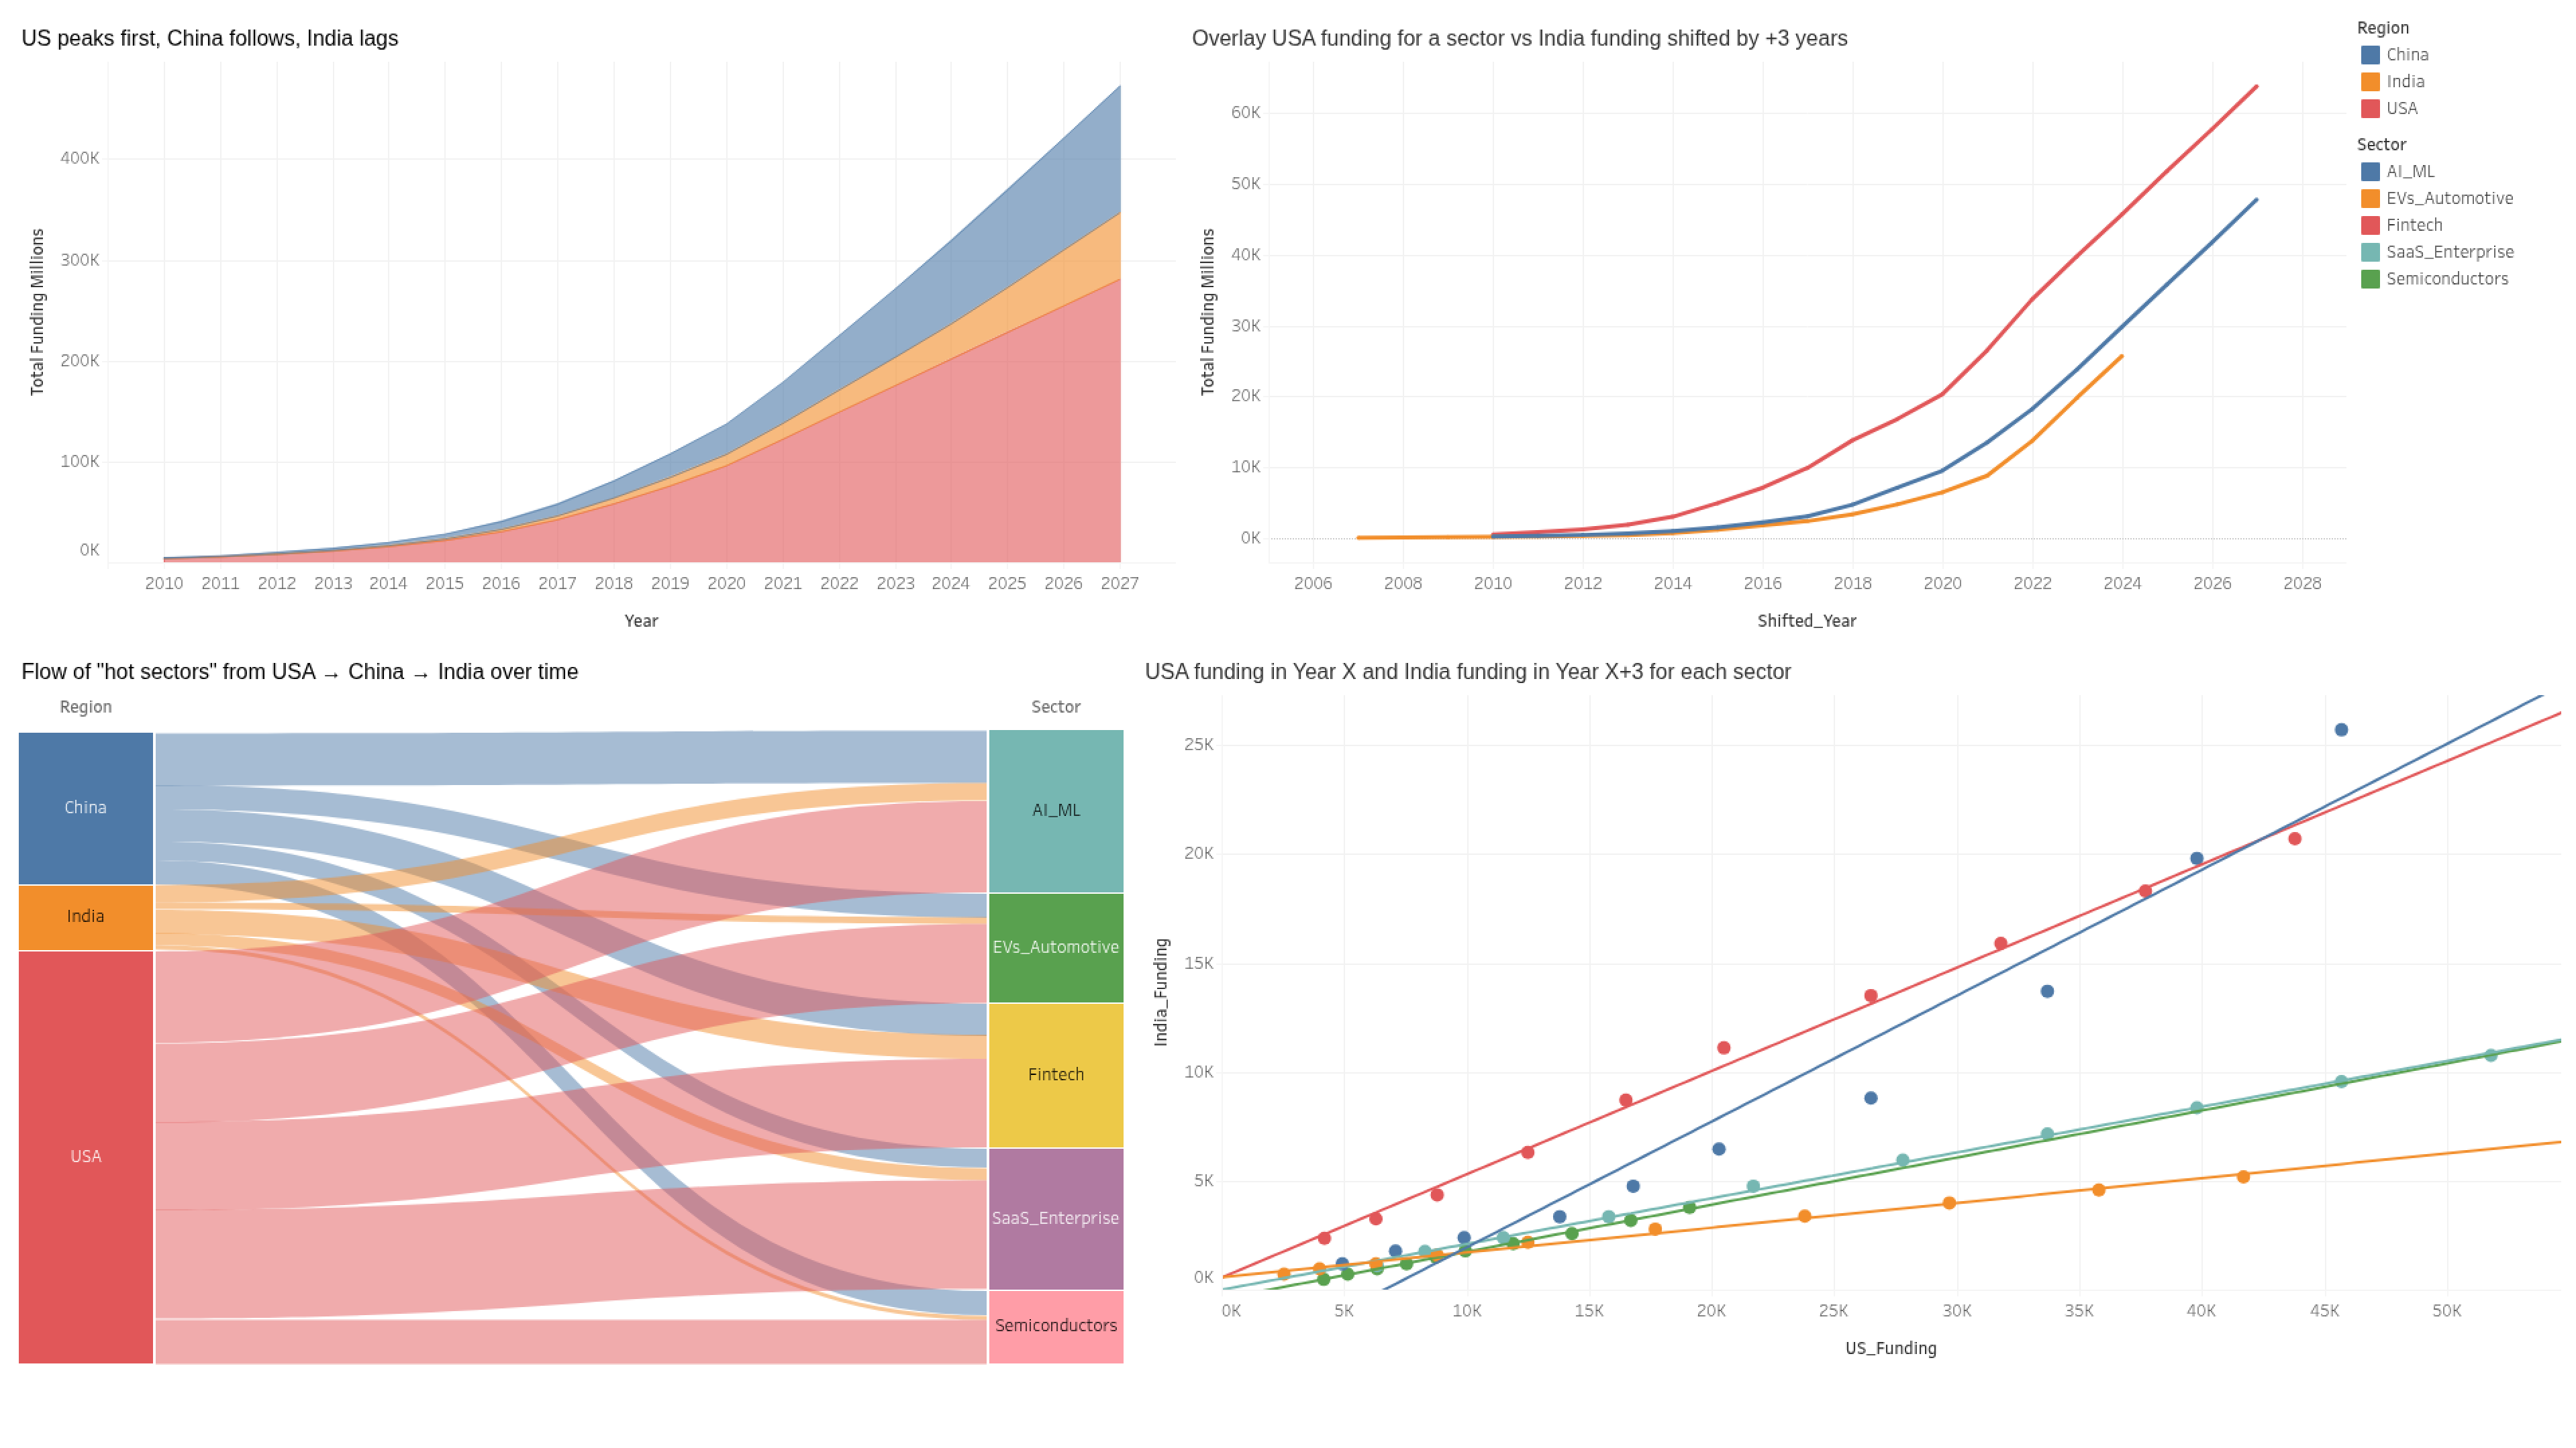

Layout of this report page (visuals, bound fields, positions):
{"tool":"tableau","page":{"name":"Dashboard - Round 1","canvas":[1000,1000],"units":"permille","ordinal":0},"visuals":[{"type":"worksheet","title":"Line Chart","mark":"Area","rows":["total_funding_millions"],"cols":["year"],"box":[6.3,9.2,430.4,506.5]},{"type":"worksheet","title":"Dual-Axis Chart","mark":"Line","rows":["total_funding_millions"],"cols":["Calculation_0014814587617280"],"box":[436.7,9.2,430.7,506.5]},{"type":"legend","title":"Dual-Axis Chart","param":"[federated.13nty0d1nbq2ow1br3wy70zkvqmv].[none:region:nk]","box":[867.4,9.2,126.3,99.5]},{"type":"legend","title":"Corelation","param":"[federated.13nty0d1nbq2ow1br3wy70zkvqmv].[none:sector:nk]","box":[867.4,108.7,126.3,145.3]},{"type":"worksheet","title":"Heatmap","mark":"Square","rows":["sector","region"],"cols":["year"],"box":[6.3,515.7,493.7,236.1]},{"type":"worksheet","title":"Sankey Diagram","mark":"VizExtension","box":[500,515.7,493.7,236.1]},{"type":"worksheet","title":"Corelation","mark":"Circle","rows":["Calculation_0014952202489901"],"cols":["Calculation_0014952202375212"],"box":[6.3,751.8,987.4,239.1]}]}

Visuals, with their boxes on the dashboard's canvas, which has no fixed pixel size, in thousandths of its width and height (x1, y1, x2, y2). These are canvas units, not pixel positions in the 2576x1448 screenshot, which may show the page scaled, cropped or inside an application window:
"Line Chart" worksheet (Area marks): 6/9/437/516
"Dual-Axis Chart" worksheet (Line marks): 437/9/867/516
"Dual-Axis Chart" legend: 867/9/994/109
"Corelation" legend: 867/109/994/254
"Heatmap" worksheet (Square marks): 6/516/500/752
"Sankey Diagram" worksheet (VizExtension marks): 500/516/994/752
"Corelation" worksheet (Circle marks): 6/752/994/991
